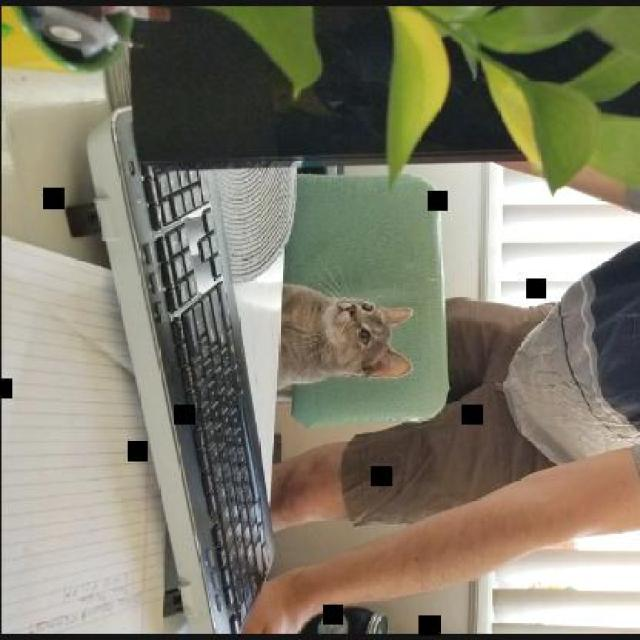unauthorized: (275, 278, 414, 392)
